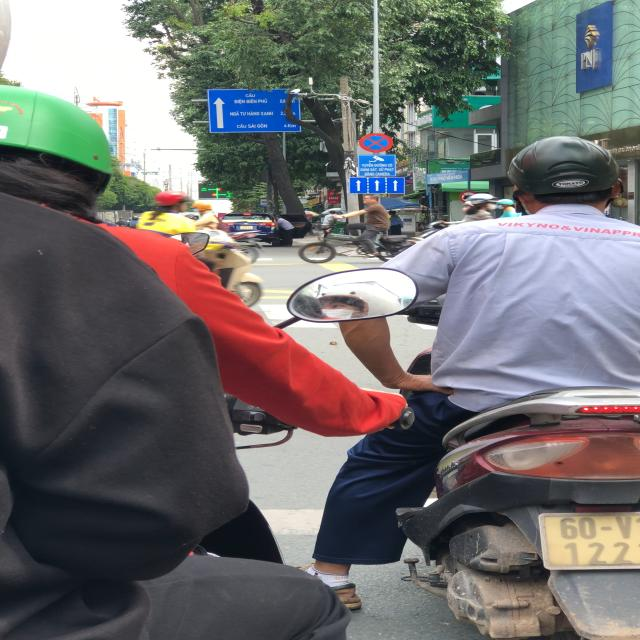Bien bao cam dung xe va do xe: (354, 132, 398, 152)
